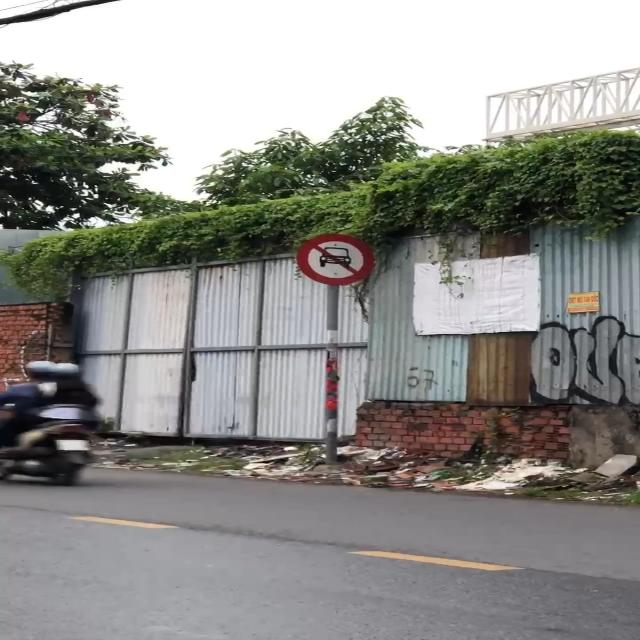Bien bao cam xe oto: (295, 232, 381, 286)
